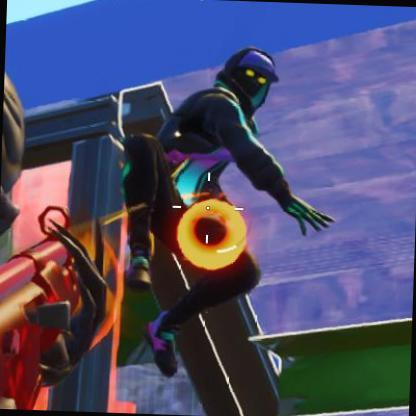person: (158, 50, 277, 326)
